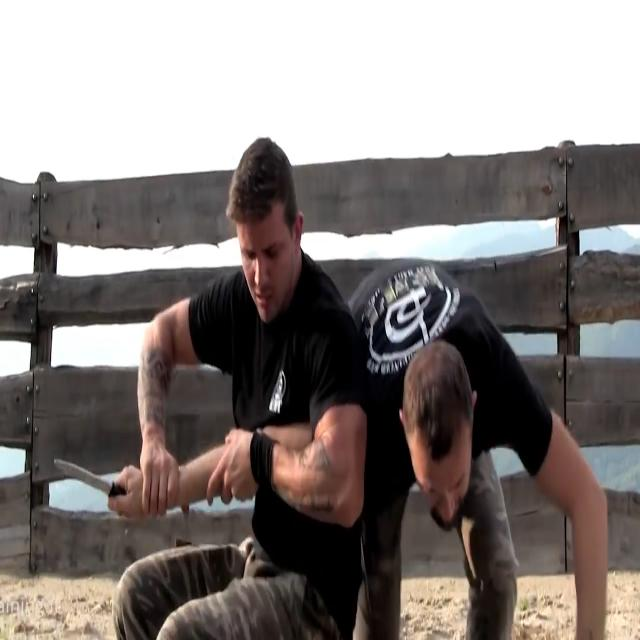knife: (54, 447, 116, 518)
